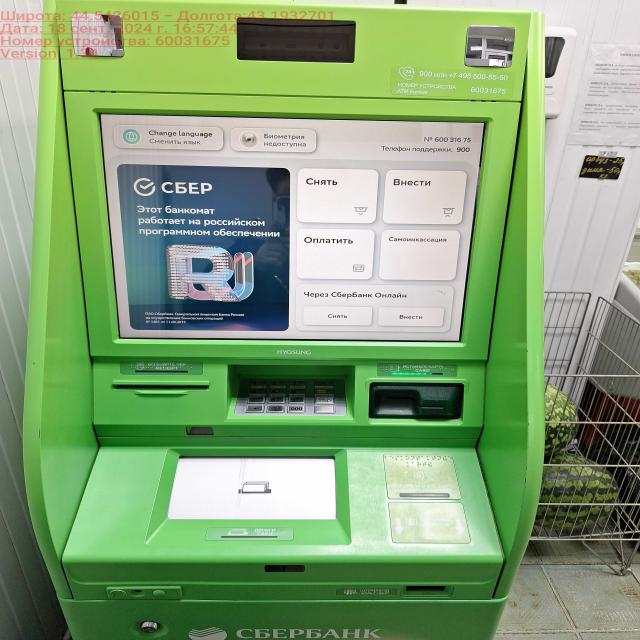bank: (25, 0, 548, 640)
